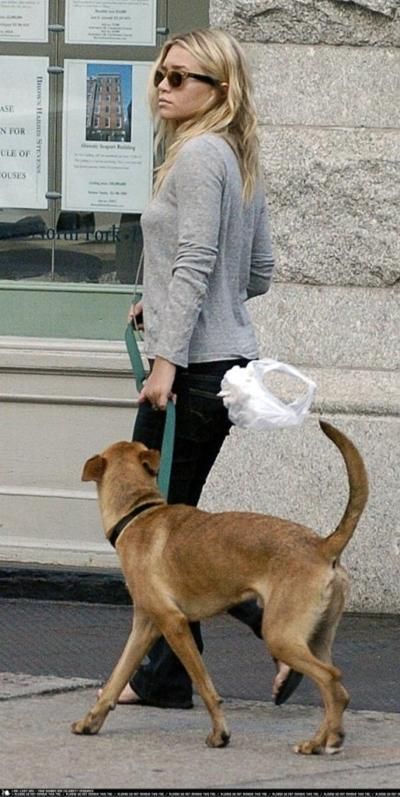person: (130, 39, 272, 714)
